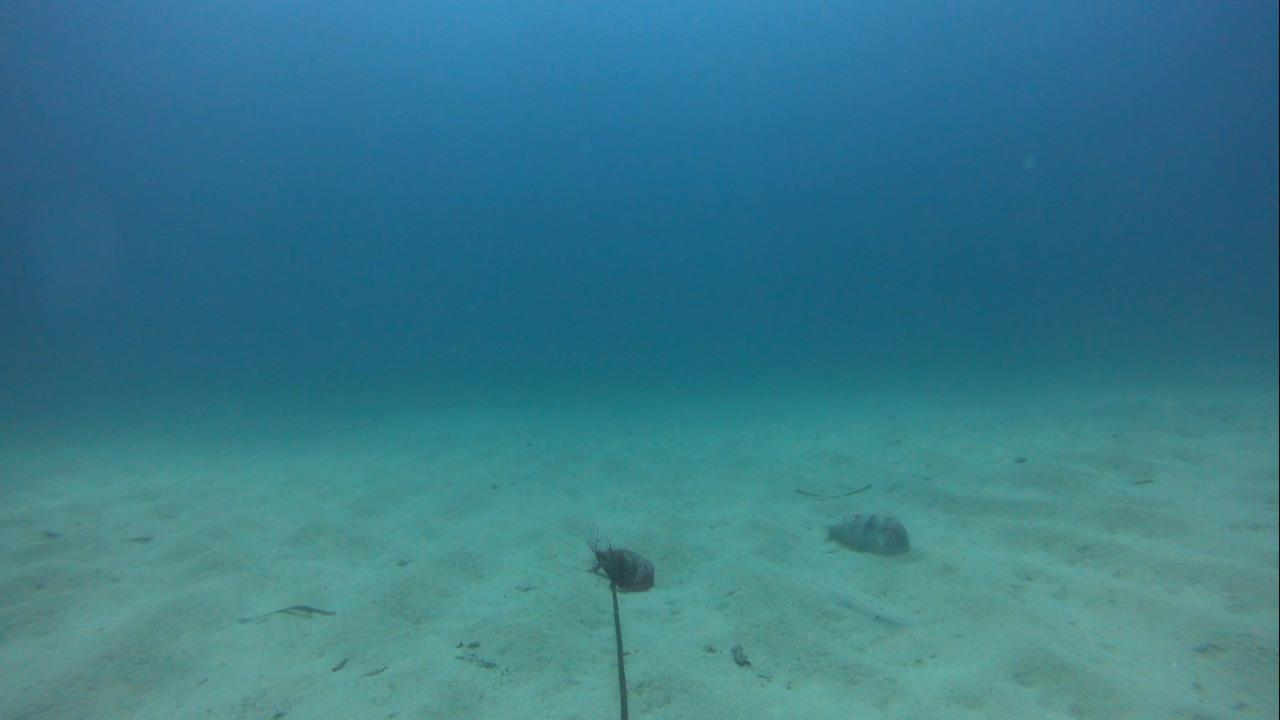raor: (810, 505, 912, 558)
